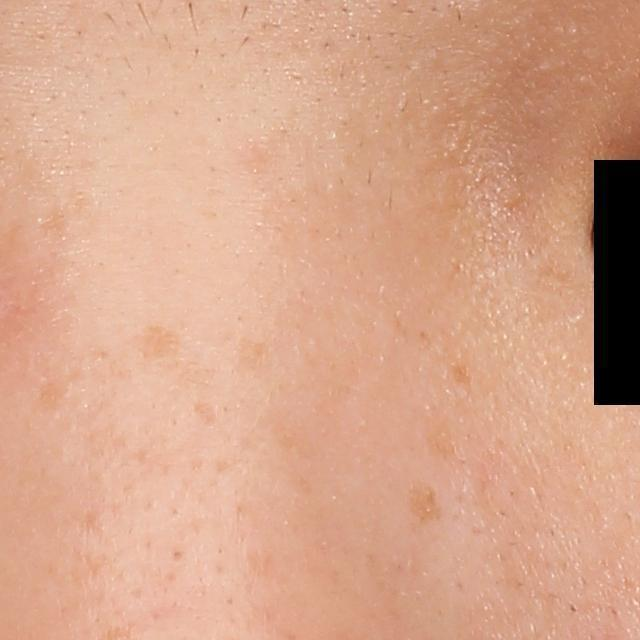melasma: (405, 479, 443, 525), (130, 327, 179, 362), (449, 363, 473, 390)
